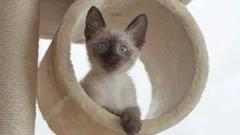siamese: (80, 7, 151, 82)
